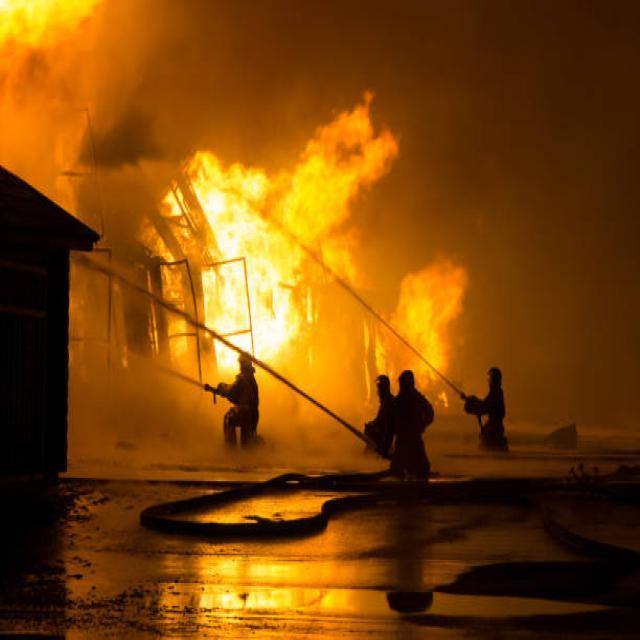Fire: (190, 91, 404, 372), (0, 0, 116, 111), (392, 260, 475, 386)
